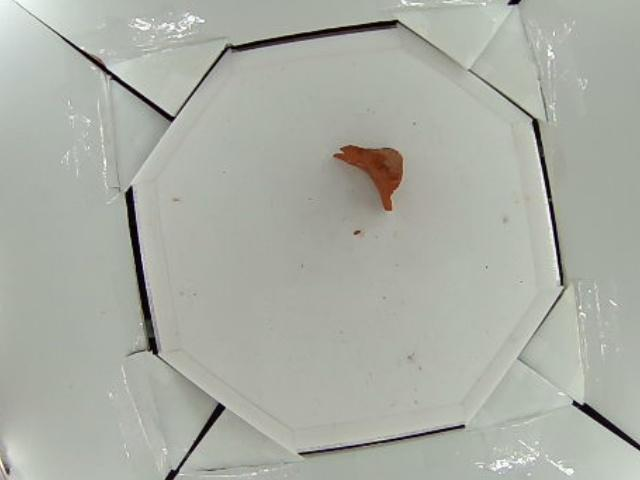Brisk: (330, 143, 403, 211)
